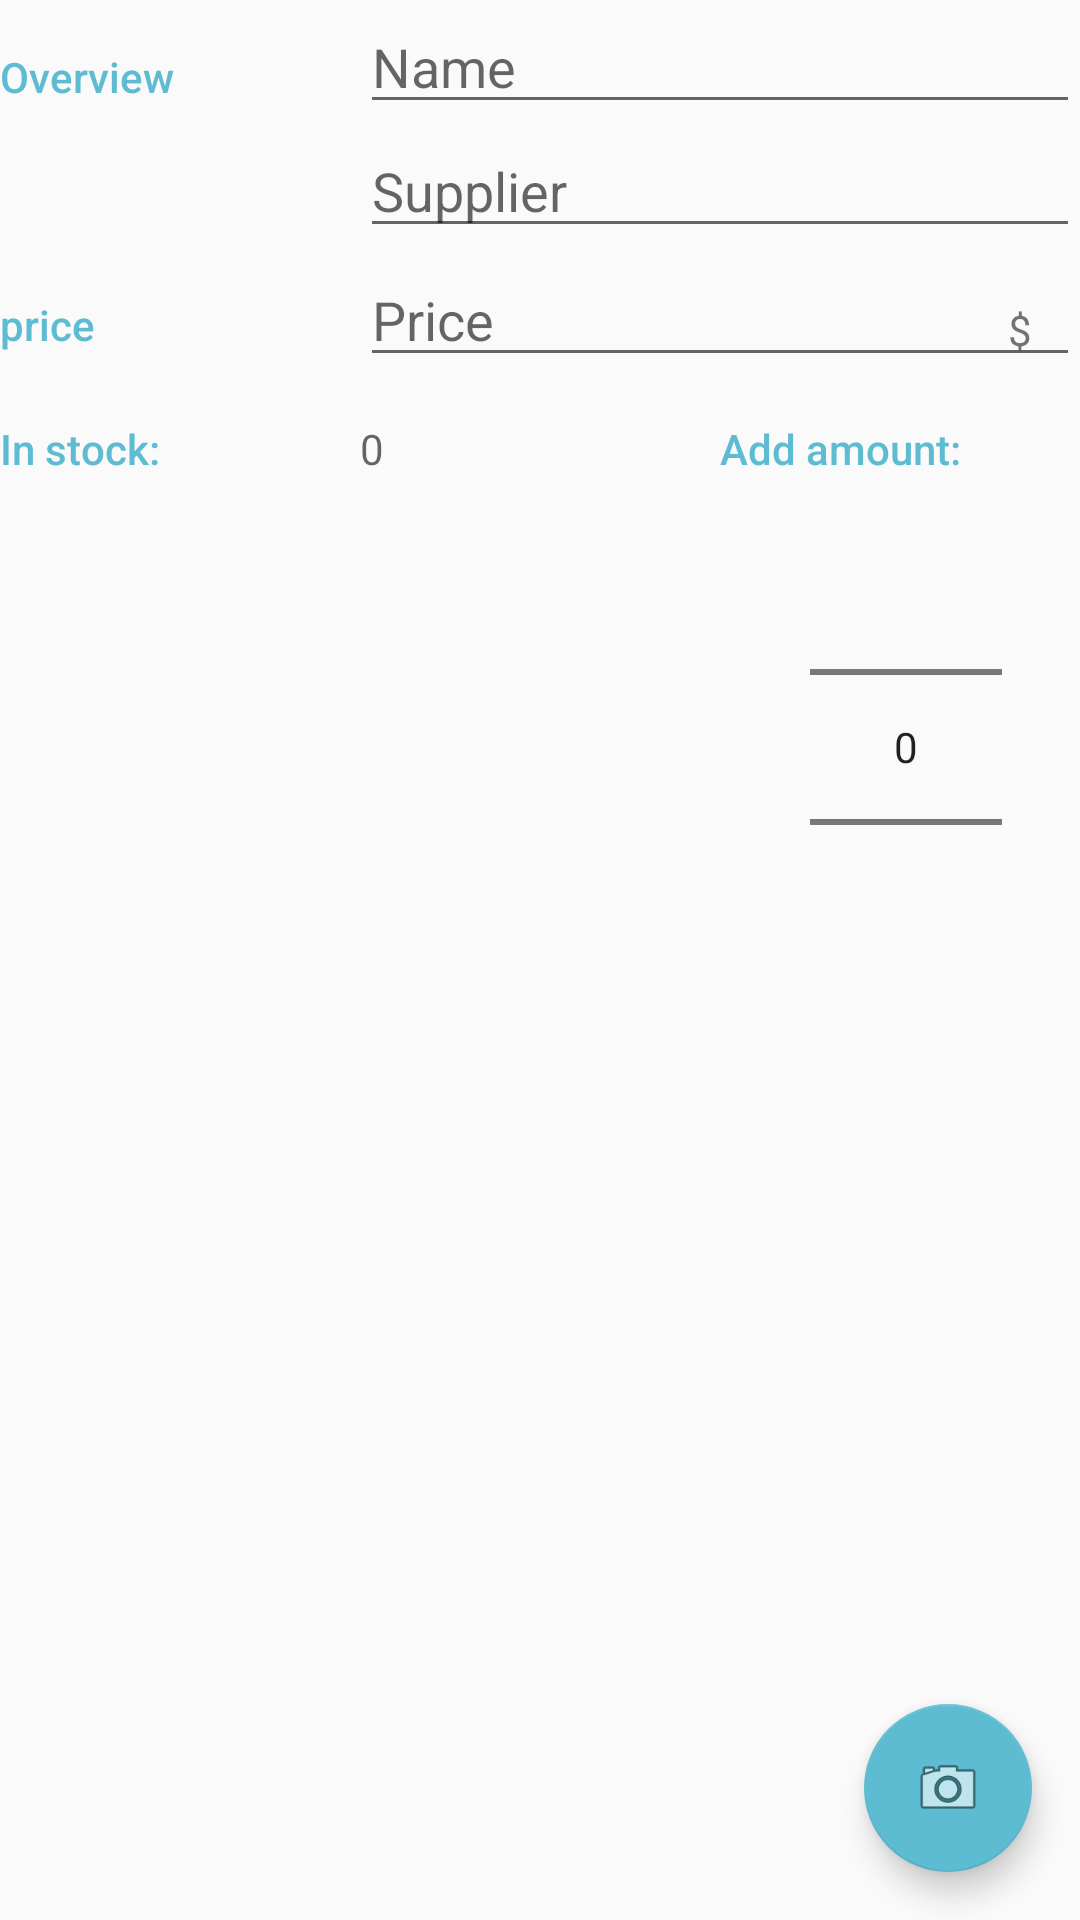

Named icons in this screenshot (1080×1920) and their centers, [x,y]:
camera: [948,1788]
